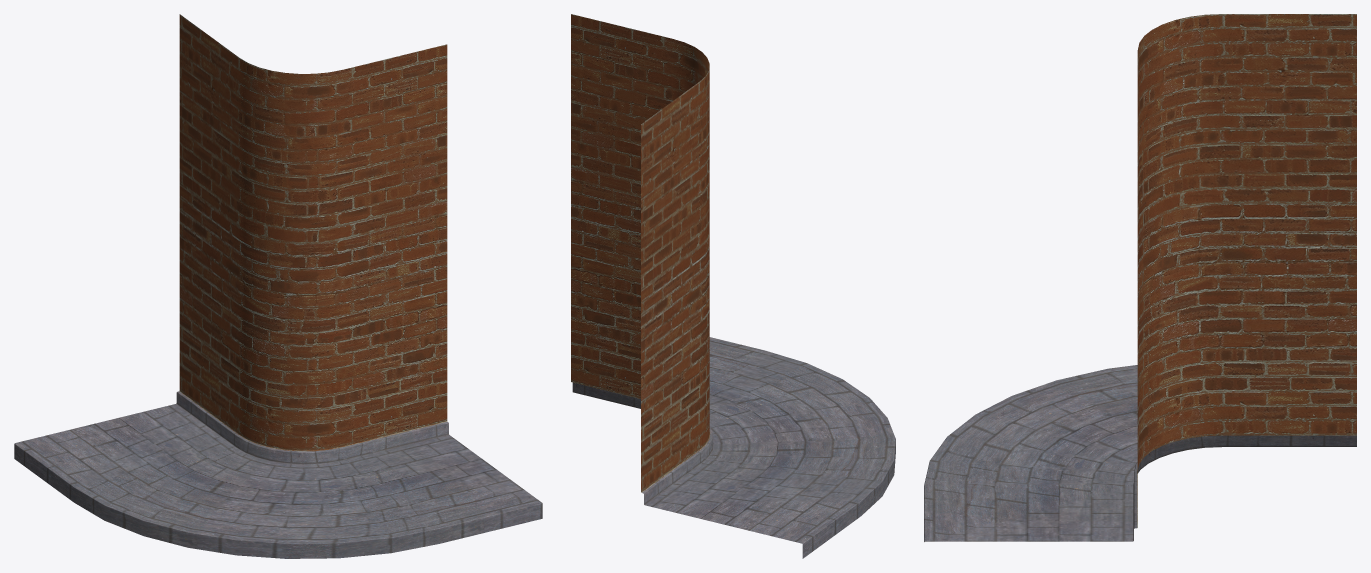
Rendered from Sidewalk_Wall_Corner.fbx.
3 renders of one model, left to right at view 1: azimuth 30°, elevation 25°; view 2: azimuth 150°, elevation 25°; view 3: azimuth 270°, elevation 25°, orthographic. The views are drawn at different scales.
Visible parts, largest first — view 1: Sidewalk_Wall_Segement_Corner; view 2: Sidewalk_Wall_Segement_Corner; view 3: Sidewalk_Wall_Segement_Corner.
Part boxes in pixels (x1,y1,x2,y2): Sidewalk_Wall_Segement_Corner: (14,14,542,558); Sidewalk_Wall_Segement_Corner: (571,14,895,558); Sidewalk_Wall_Segement_Corner: (924,14,1356,541).
Size of the model in its own units: 385 by 444 by 385.
Materials: 2 (2 with a texture image).
